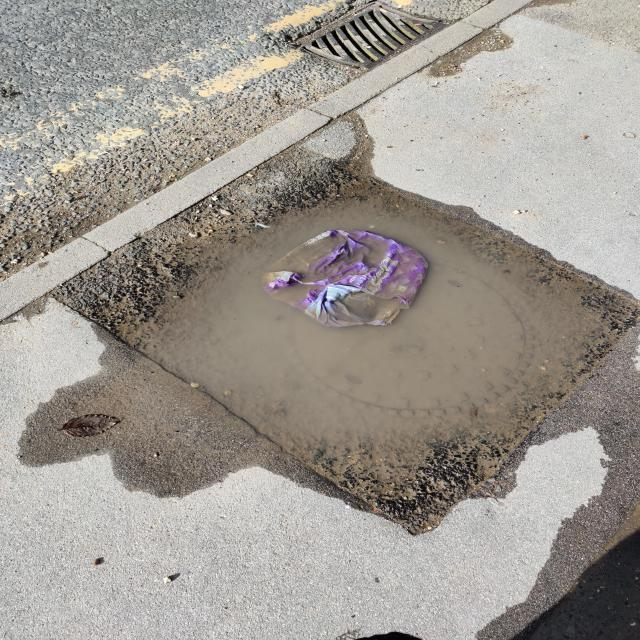litter: (262, 230, 428, 329)
